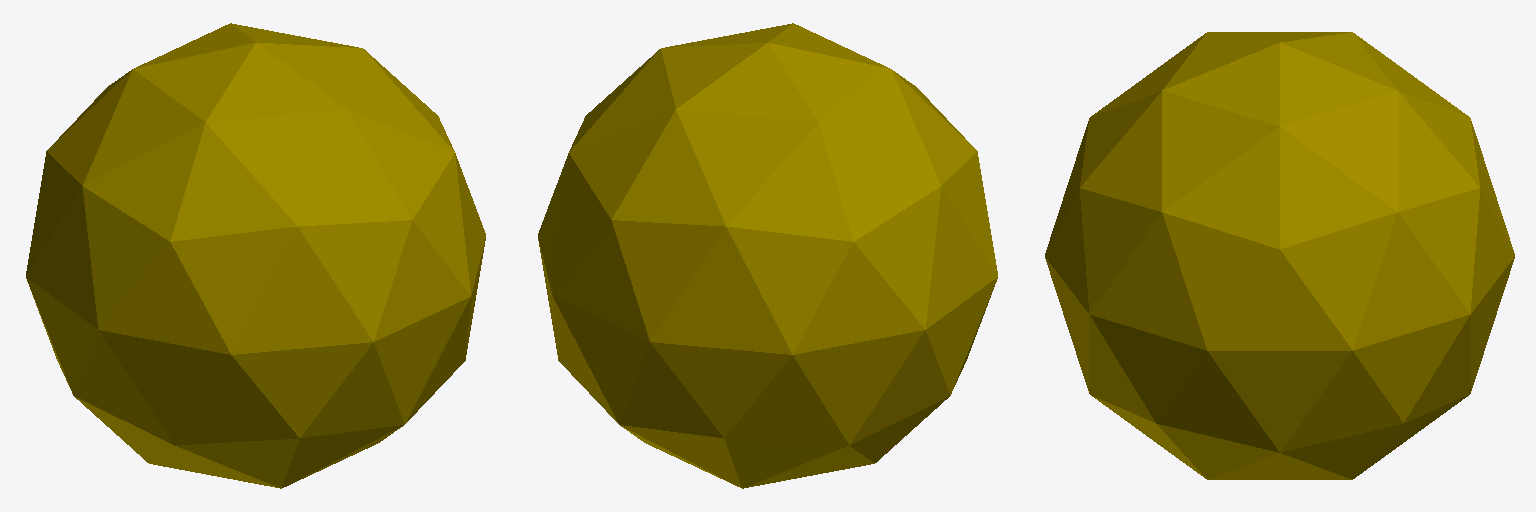
File: pizza.obj
The picture shows the model from 3 angles: view 1: azimuth 30°, elevation 25°; view 2: azimuth 150°, elevation 25°; view 3: azimuth 270°, elevation 25°; orthographic projection.
Visible parts, largest first — view 1: Icosphere; view 2: Icosphere; view 3: Icosphere.
Boxes of the visible parts, box(x1,y1,x2,y2) form: Icosphere: box(26, 23, 485, 488); Icosphere: box(538, 23, 997, 488); Icosphere: box(1045, 32, 1514, 479).
Bounding box in the file's own units: 1.9 × 2 × 2.